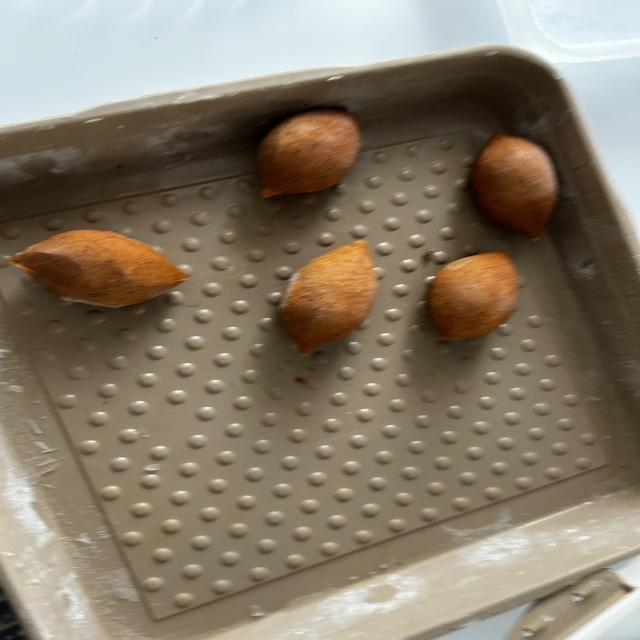kobi: (12, 225, 190, 308), (274, 238, 380, 359), (255, 108, 364, 201), (472, 128, 561, 240), (420, 249, 522, 345)
